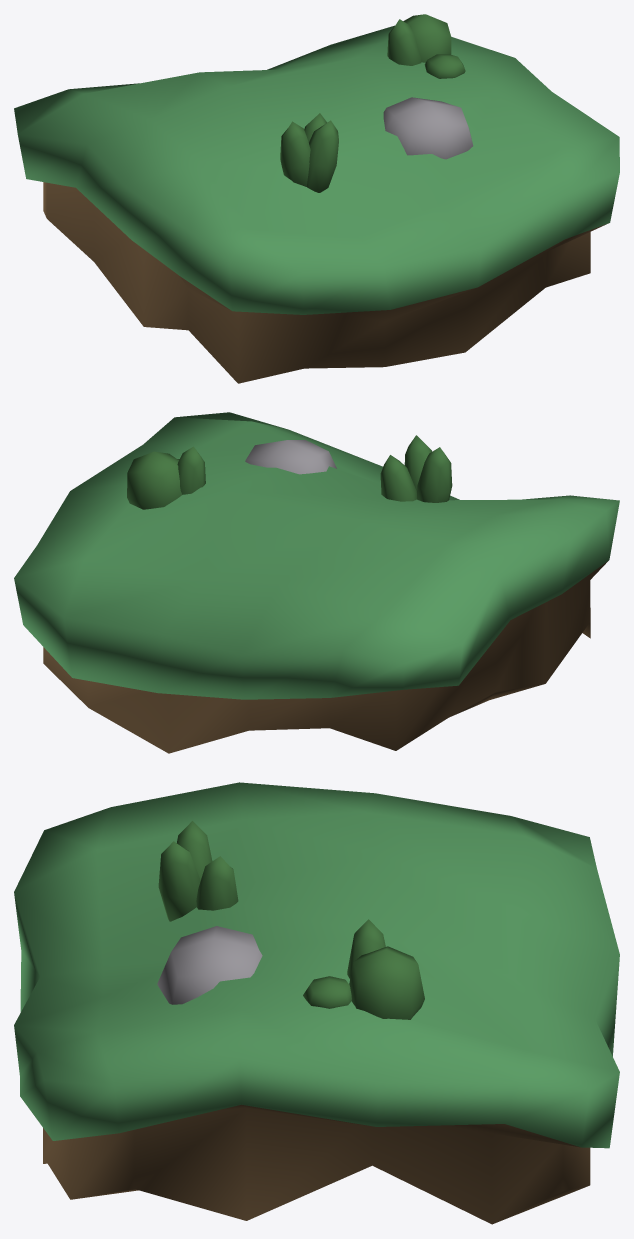
The model's file is island02.fbx.
3 views of the same model, one above another, from view 1: azimuth 30°, elevation 25°; view 2: azimuth 150°, elevation 25°; view 3: azimuth 270°, elevation 25° (orthographic). The views are drawn at different scales.
Visible parts, largest first — view 1: island02; view 2: island02; view 3: island02.
Part boxes in pixels (x1,y1,x2,y2): island02: (14,14,619,383); island02: (14,412,619,753); island02: (14,782,619,1224).
Size of the model in its own units: 5542 by 2844 by 5163.
